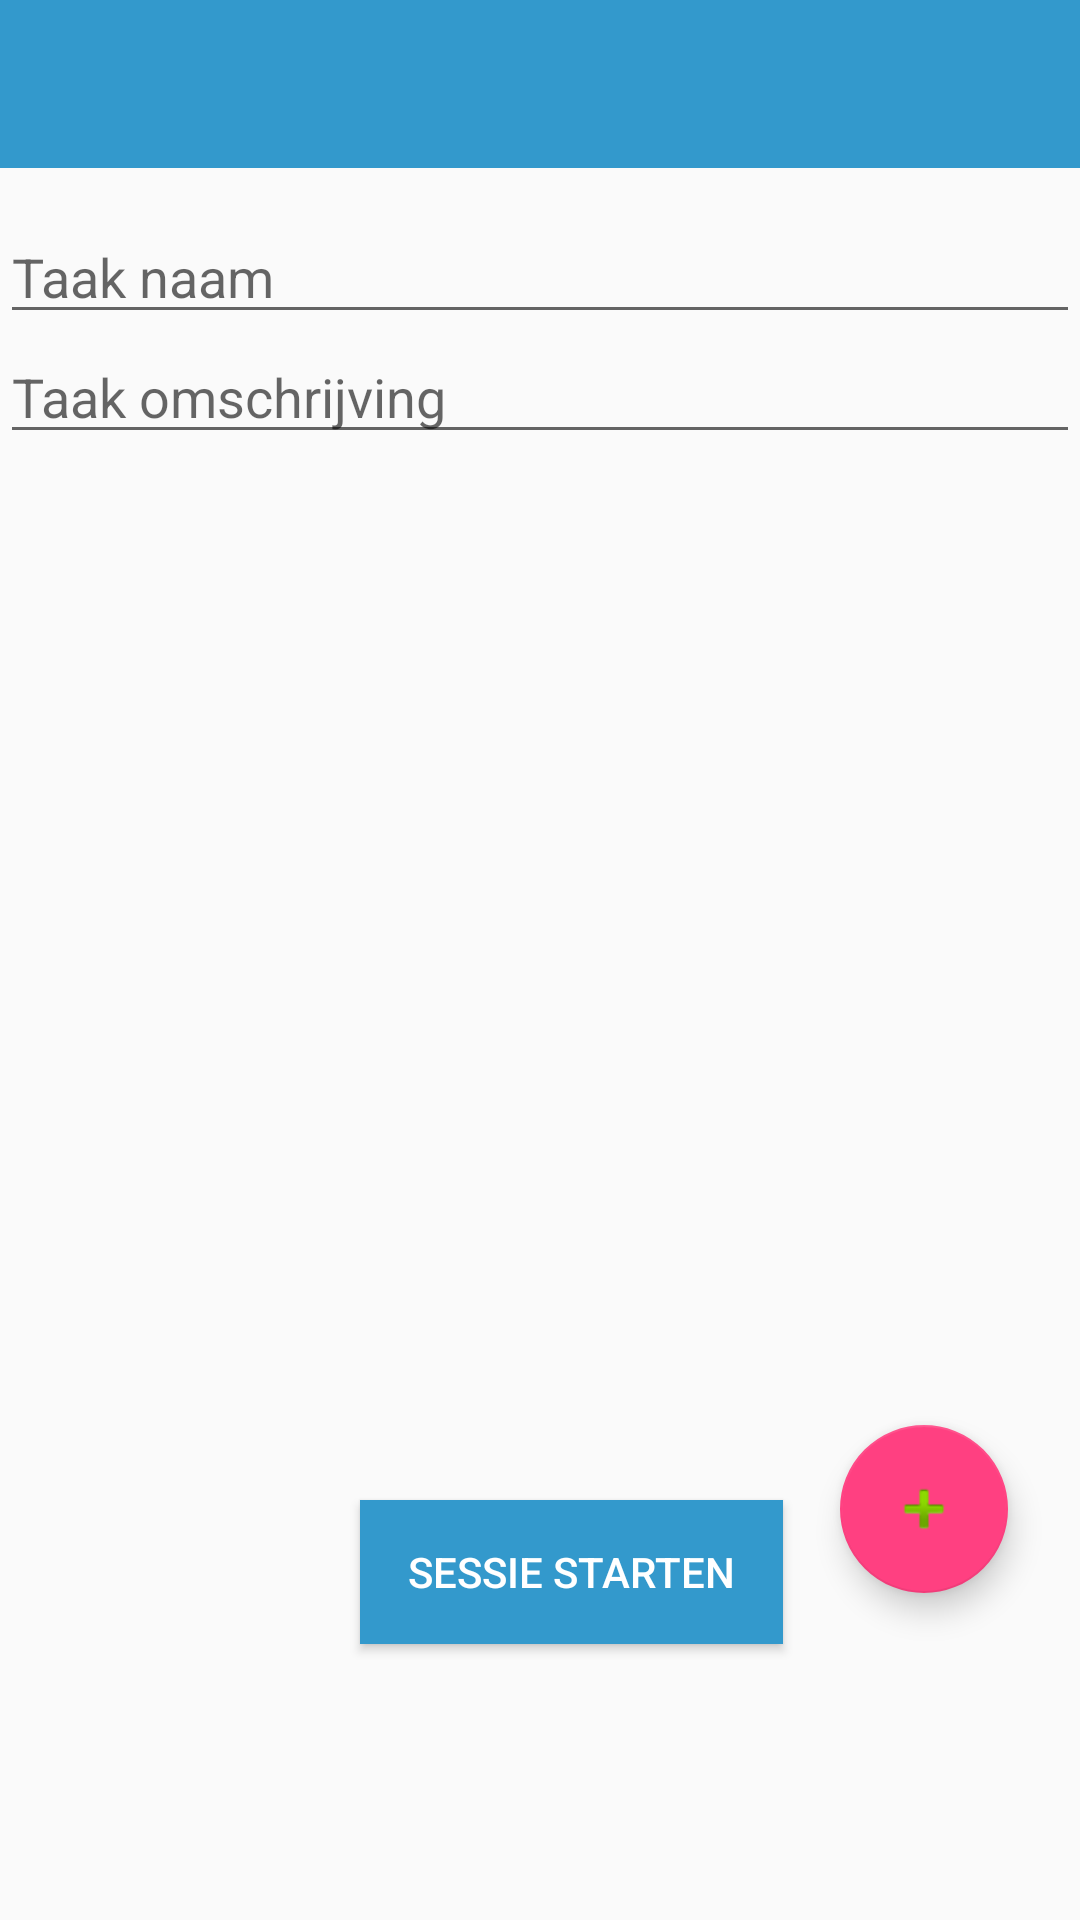

Locate icon controls on the screen. Image size 1080×1920, boxes as rect(x1, y1, x2, y2).
add: rect(840, 1425, 1008, 1593)
